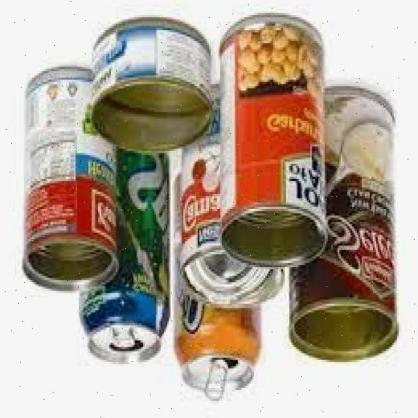can: (82, 148, 169, 363)
